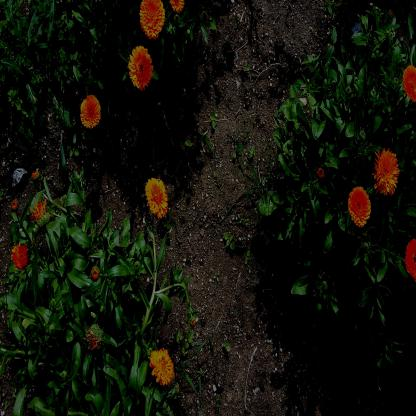marigold: (130, 46, 152, 92), (141, 1, 166, 40), (144, 177, 168, 216), (377, 149, 398, 193), (151, 347, 174, 384), (349, 186, 370, 226), (79, 93, 100, 125), (402, 64, 416, 102)
